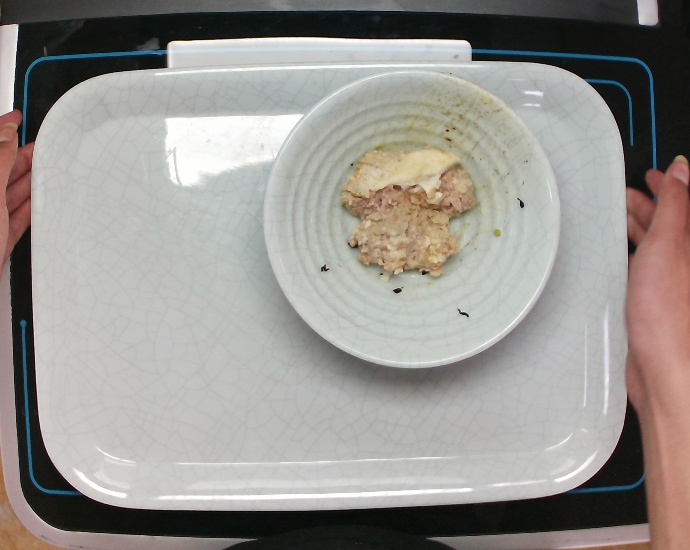JYsf-Xiao_Tang_Wan: (263, 64, 563, 373)
